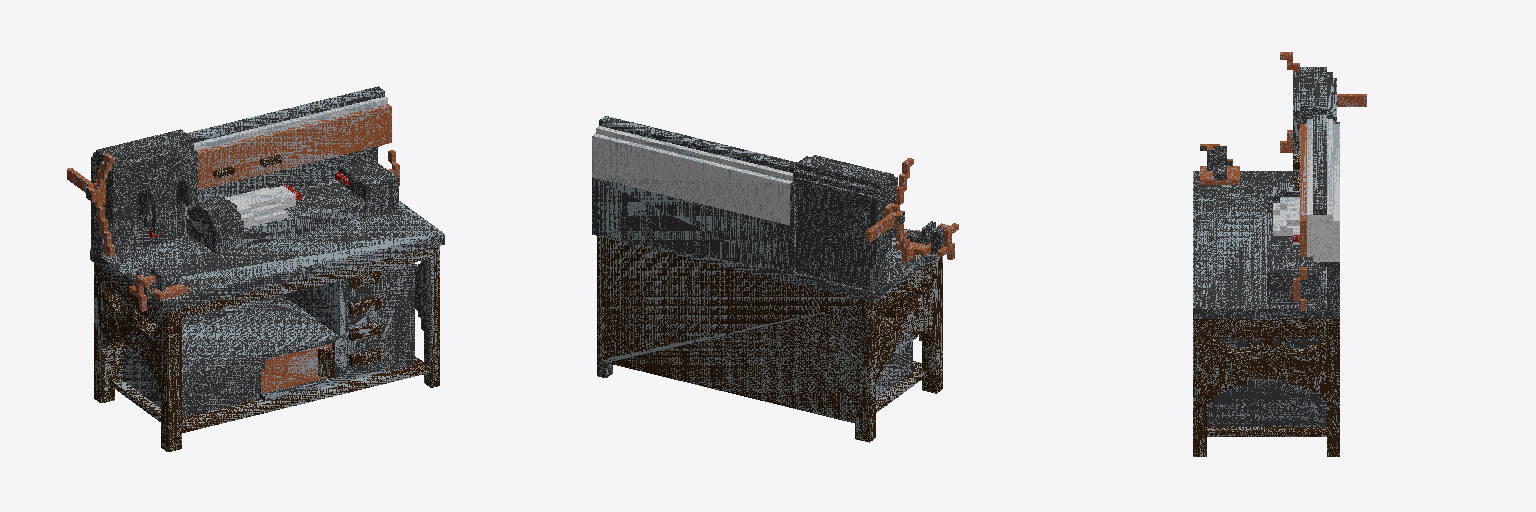
Rendered from workbench.obj.
The picture shows the model from 3 angles: view 1: azimuth 30°, elevation 25°; view 2: azimuth 150°, elevation 25°; view 3: azimuth 270°, elevation 25°; orthographic projection.
Parts seen in each view (by area): view 1: Mesh1 Model; view 2: Mesh1 Model; view 3: Mesh1 Model.
Boxes of the visible parts, x1=… form: Mesh1 Model: x1=67, y1=86, x2=444, y2=451; Mesh1 Model: x1=592, y1=116, x2=958, y2=442; Mesh1 Model: x1=1193, y1=52, x2=1366, y2=456.
Bounding box in the file's own units: 2 × 1.68 × 1.